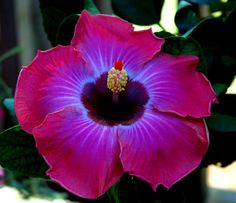Hibiscus: (13, 10, 218, 197)
